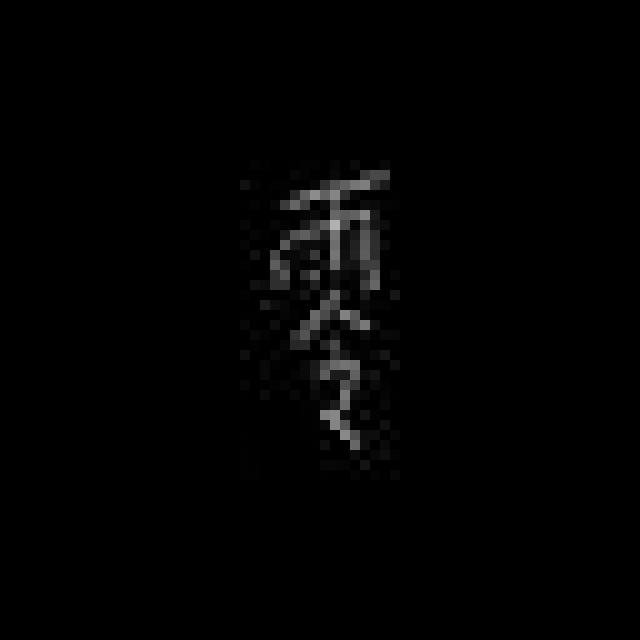0 -zero-: (255, 162, 398, 474)
